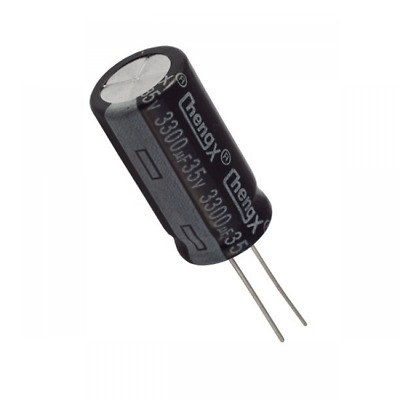Capacitor: (89, 45, 273, 266)
